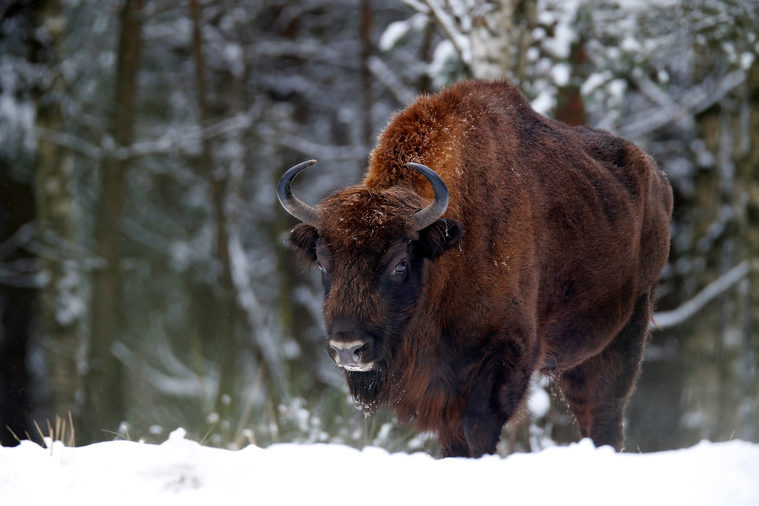zubr: (257, 64, 696, 484)
